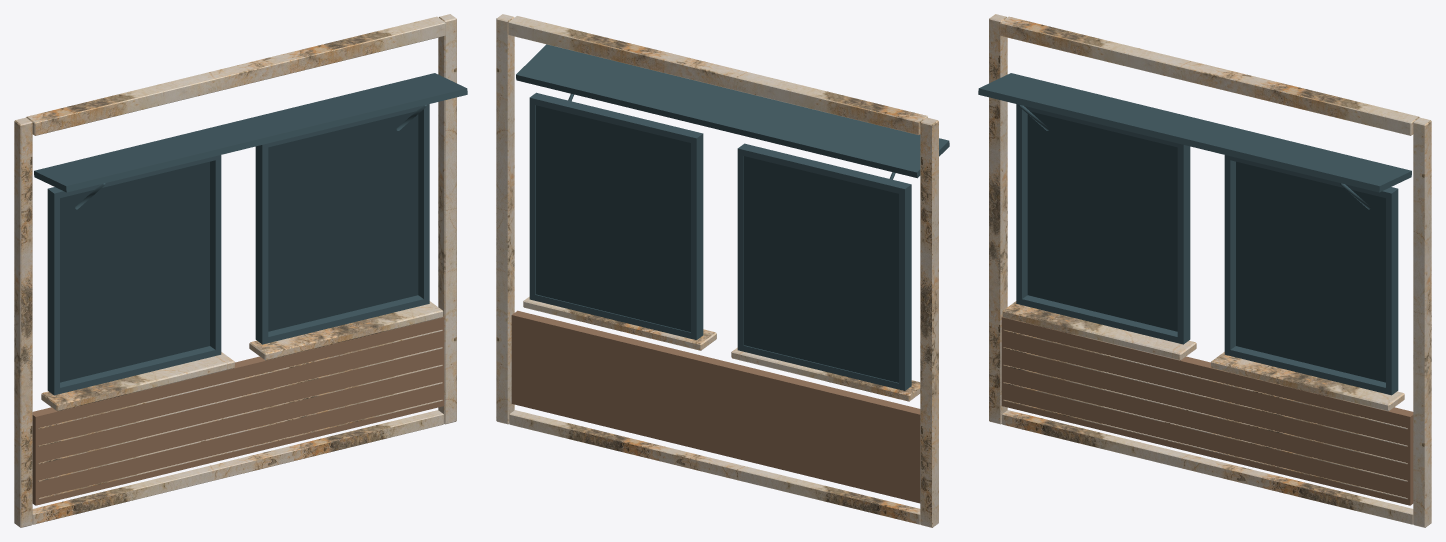
Rendered from facade_retail_shutter_upper.glb.
3 renders of one model, left to right at view 1: azimuth 30°, elevation 25°; view 2: azimuth 150°, elevation 25°; view 3: azimuth 330°, elevation 25°, orthographic.
Parts seen in each view (by area): view 1: facade_retail_shutter_upper__VVK_dark_glass, facade_retail_shutter_upper__VVK_concrete_CC0, facade_retail_shutter_upper__VVK_masonry, facade_retail_shutter_upper__VVK_painted_steel; view 2: facade_retail_shutter_upper__VVK_dark_glass, facade_retail_shutter_upper__VVK_masonry, facade_retail_shutter_upper__VVK_concrete_CC0, facade_retail_shutter_upper__VVK_painted_steel; view 3: facade_retail_shutter_upper__VVK_dark_glass, facade_retail_shutter_upper__VVK_concrete_CC0, facade_retail_shutter_upper__VVK_masonry, facade_retail_shutter_upper__VVK_painted_steel.
Boxes of the visible parts, x1,y1,x2,y2 form: facade_retail_shutter_upper__VVK_dark_glass: [60, 111, 418, 382]; facade_retail_shutter_upper__VVK_concrete_CC0: [14, 14, 456, 527]; facade_retail_shutter_upper__VVK_masonry: [32, 316, 444, 505]; facade_retail_shutter_upper__VVK_painted_steel: [34, 73, 467, 395]; facade_retail_shutter_upper__VVK_dark_glass: [536, 105, 898, 382]; facade_retail_shutter_upper__VVK_masonry: [511, 310, 920, 503]; facade_retail_shutter_upper__VVK_concrete_CC0: [496, 14, 938, 527]; facade_retail_shutter_upper__VVK_painted_steel: [516, 44, 949, 390]; facade_retail_shutter_upper__VVK_dark_glass: [1027, 111, 1385, 382]; facade_retail_shutter_upper__VVK_concrete_CC0: [989, 14, 1431, 527]; facade_retail_shutter_upper__VVK_masonry: [1001, 316, 1413, 505]; facade_retail_shutter_upper__VVK_painted_steel: [978, 73, 1411, 395].
Bounding box in the file's own units: 3.4 × 3 × 0.479.
Materials: 4 (1 with a texture image).
